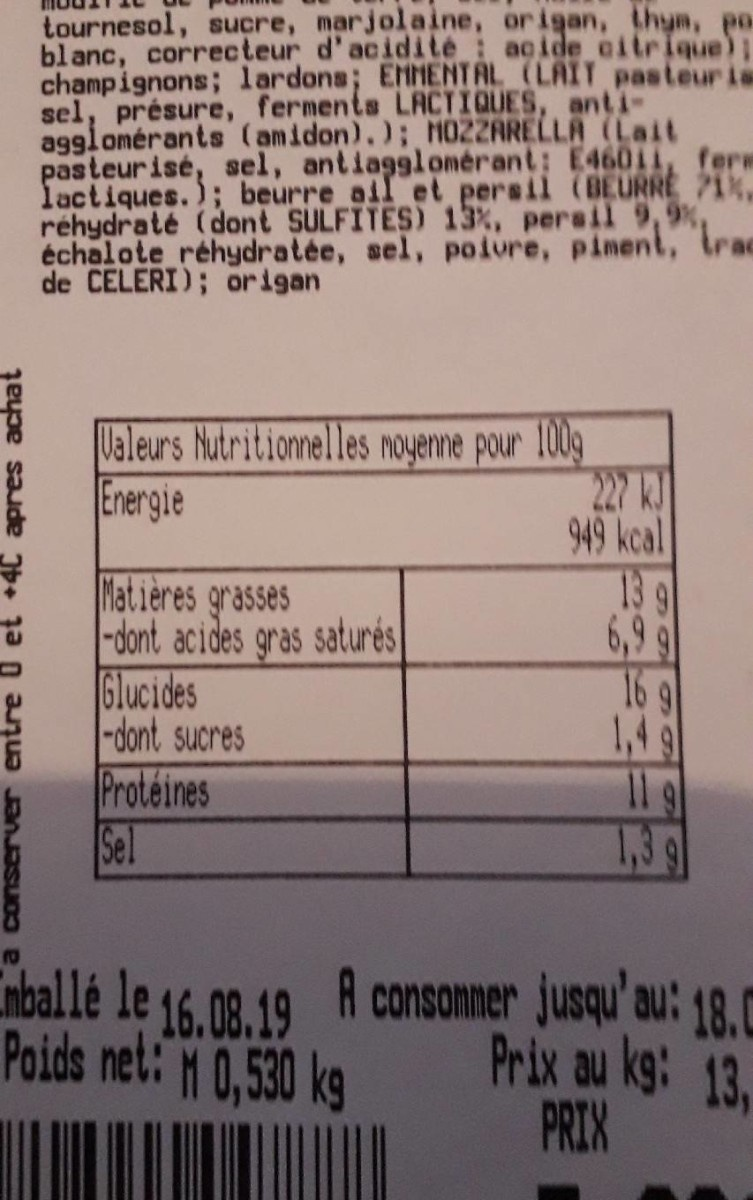column: (103, 479, 394, 875), (567, 475, 680, 874)
table: (88, 412, 696, 894)
